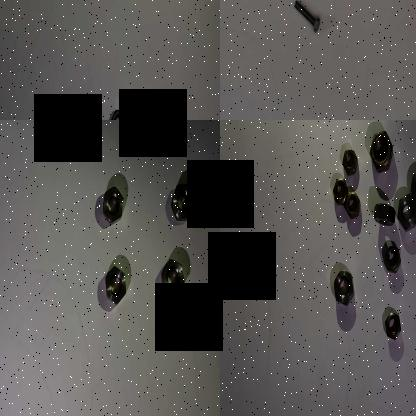Bolts: (290, 0, 325, 34)
NUTS: (99, 182, 126, 232), (367, 126, 394, 176), (169, 180, 195, 224), (158, 257, 184, 301), (103, 264, 128, 306), (330, 266, 355, 307), (395, 190, 416, 230), (372, 200, 400, 228), (382, 308, 402, 342), (342, 189, 361, 224), (122, 89, 142, 120), (381, 243, 401, 274), (330, 174, 349, 206), (339, 146, 359, 175), (406, 165, 416, 206), (108, 104, 126, 120), (136, 112, 158, 120)
